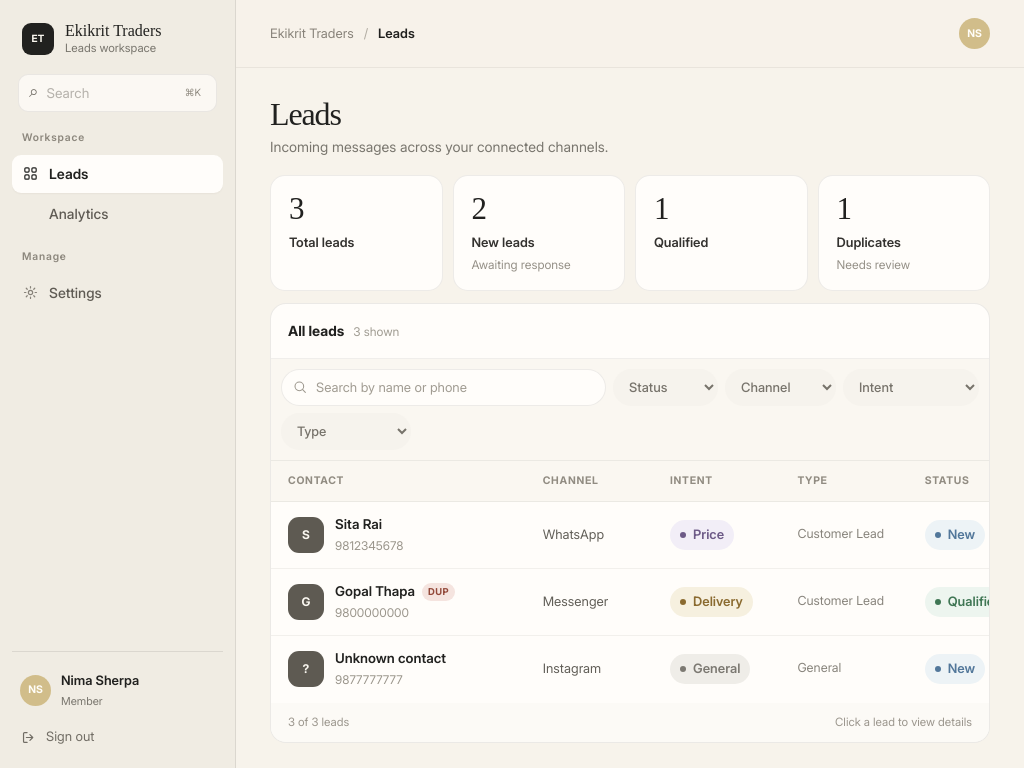
DashboardPage — search › filters by phone number (exact substring, case-sensitive as typed)
The width and height of the screenshot is (1024, 768).
Expected: the text "Sita Rai" is shown, top-left (335, 516), bottom-right (382, 532)
Type "9800000000" into the field with placeholder "Search by name or phone".
click(444, 387); type("9800000000")  # box top-left (281, 369), bottom-right (606, 406)
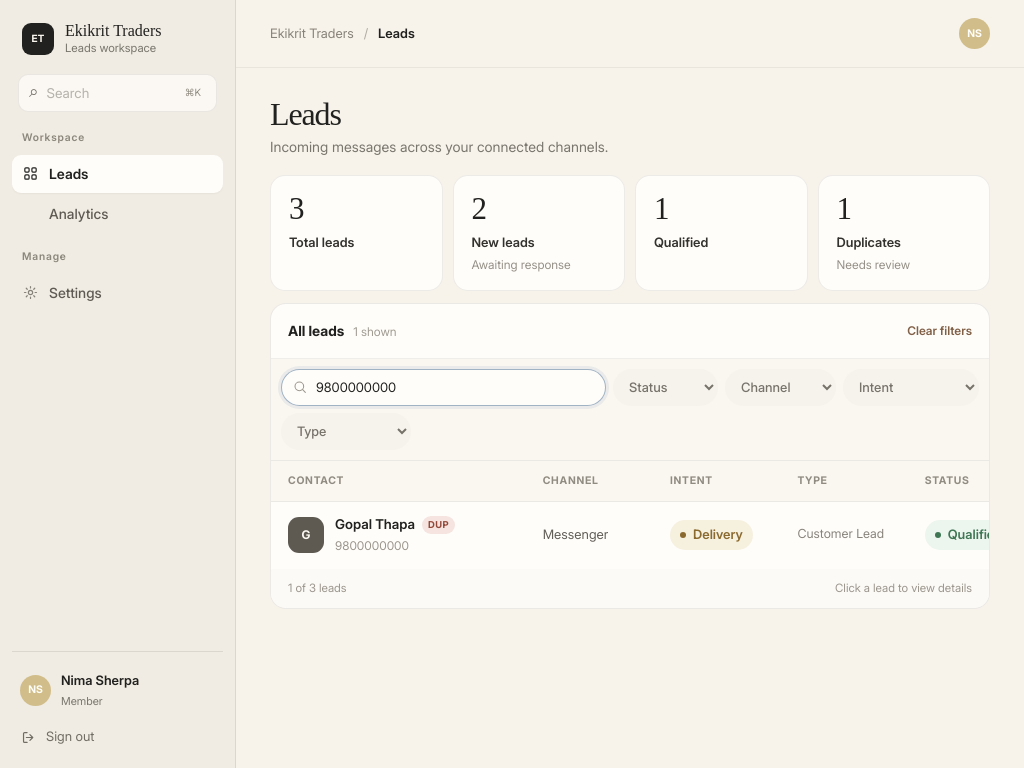
Expected: the text "Gopal Thapa" is shown, top-left (335, 516), bottom-right (415, 532)
Result: the text "Sita Rai" is gone
